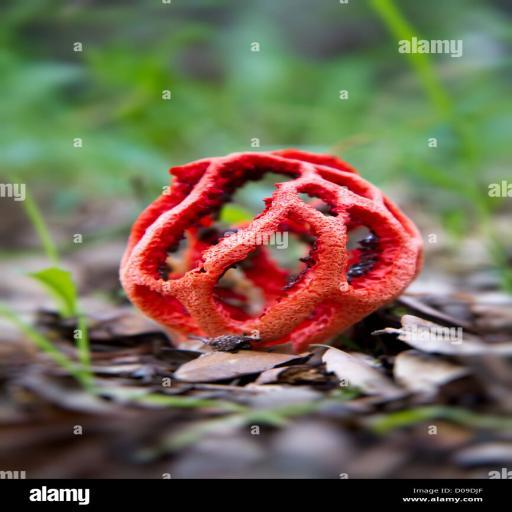mushroom: (126, 154, 425, 342)
